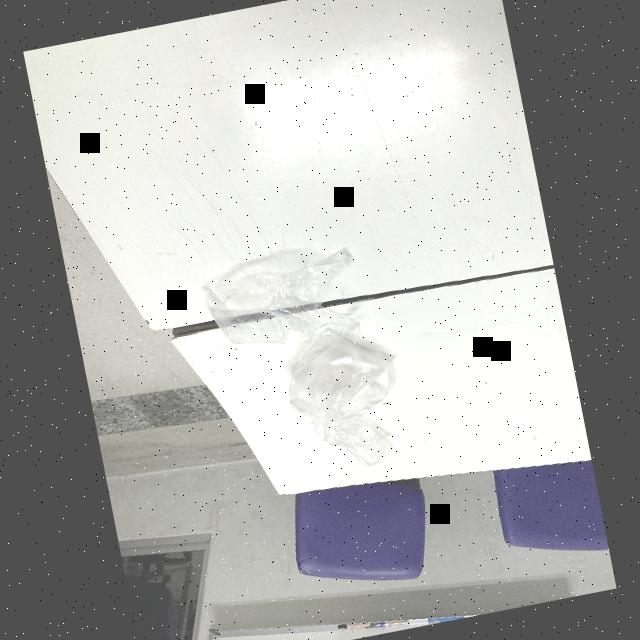plastic_bag: (196, 252, 370, 366), (259, 327, 414, 439)
scrap_plastic: (319, 416, 402, 474)
